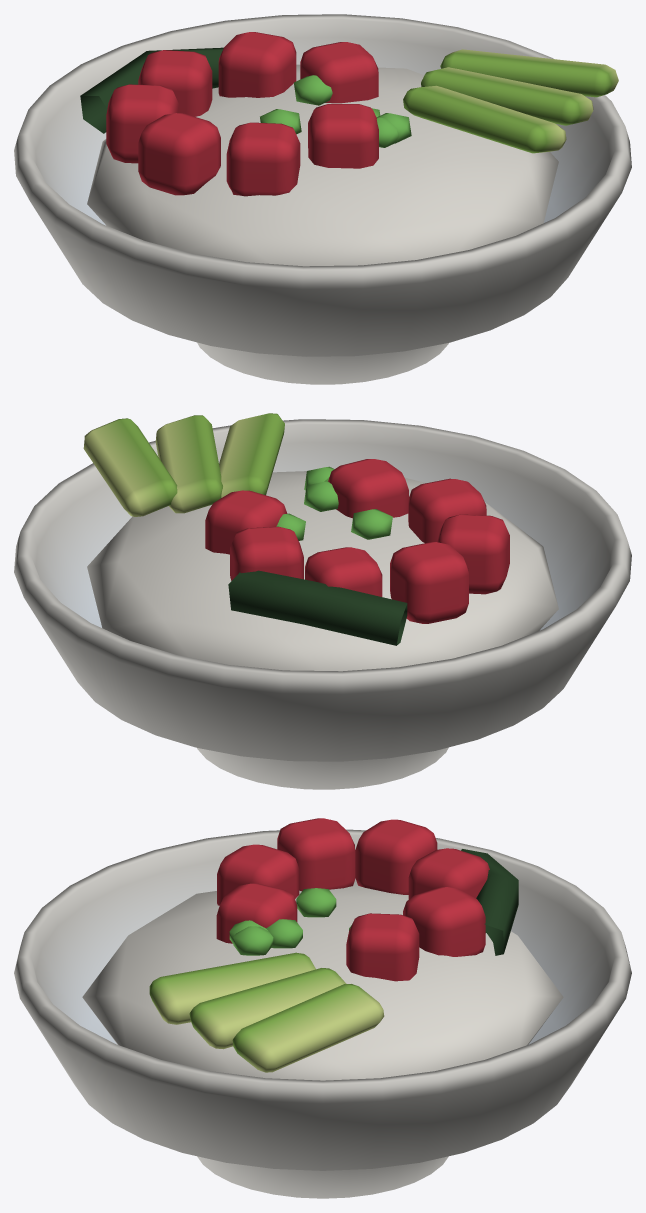
File: item_dish_ahi_poke.glb
3 renders of one model, top to bottom at view 1: azimuth 30°, elevation 25°; view 2: azimuth 150°, elevation 25°; view 3: azimuth 270°, elevation 25°, orthographic.
Parts seen in each view (by area): view 1: item_dish_ahi_poke_main; view 2: item_dish_ahi_poke_main; view 3: item_dish_ahi_poke_main.
Boxes of the visible parts, x1,y1,x2,y2 form: item_dish_ahi_poke_main: [14, 14, 631, 384]; item_dish_ahi_poke_main: [14, 413, 631, 789]; item_dish_ahi_poke_main: [14, 818, 631, 1198].
Size of the model in its own units: 0.21 by 0.092 by 0.21.
